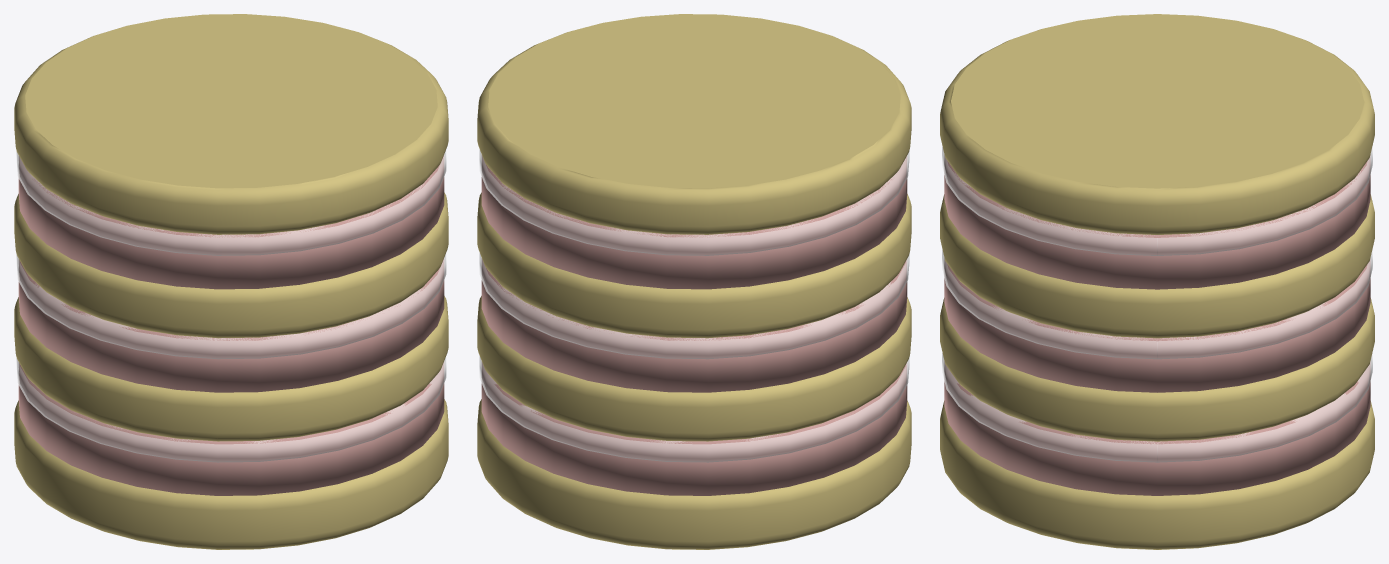
File: tier_6.glb
3 views of the same model, side by side, from view 1: azimuth 30°, elevation 25°; view 2: azimuth 150°, elevation 25°; view 3: azimuth 270°, elevation 25° (orthographic).
Parts seen in each view (by area): view 1: 6_Cake, 6_Frosting, 6_TopCap, 6_Filling; view 2: 6_Cake, 6_Frosting, 6_TopCap, 6_Filling; view 3: 6_Cake, 6_Frosting, 6_TopCap, 6_Filling.
Boxes of the visible parts, x1,y1,x2,y2 form: 6_Cake: (14, 32, 448, 549); 6_Frosting: (18, 155, 444, 495); 6_TopCap: (25, 14, 437, 549); 6_Filling: (16, 149, 446, 462); 6_Cake: (477, 32, 911, 549); 6_Frosting: (481, 155, 907, 495); 6_TopCap: (488, 14, 900, 549); 6_Filling: (479, 149, 909, 462); 6_Cake: (940, 30, 1374, 549); 6_Frosting: (944, 155, 1370, 495); 6_TopCap: (951, 14, 1363, 549); 6_Filling: (942, 147, 1372, 462).
Size of the model in its own units: 0.1524 by 0.1397 by 0.1524.
